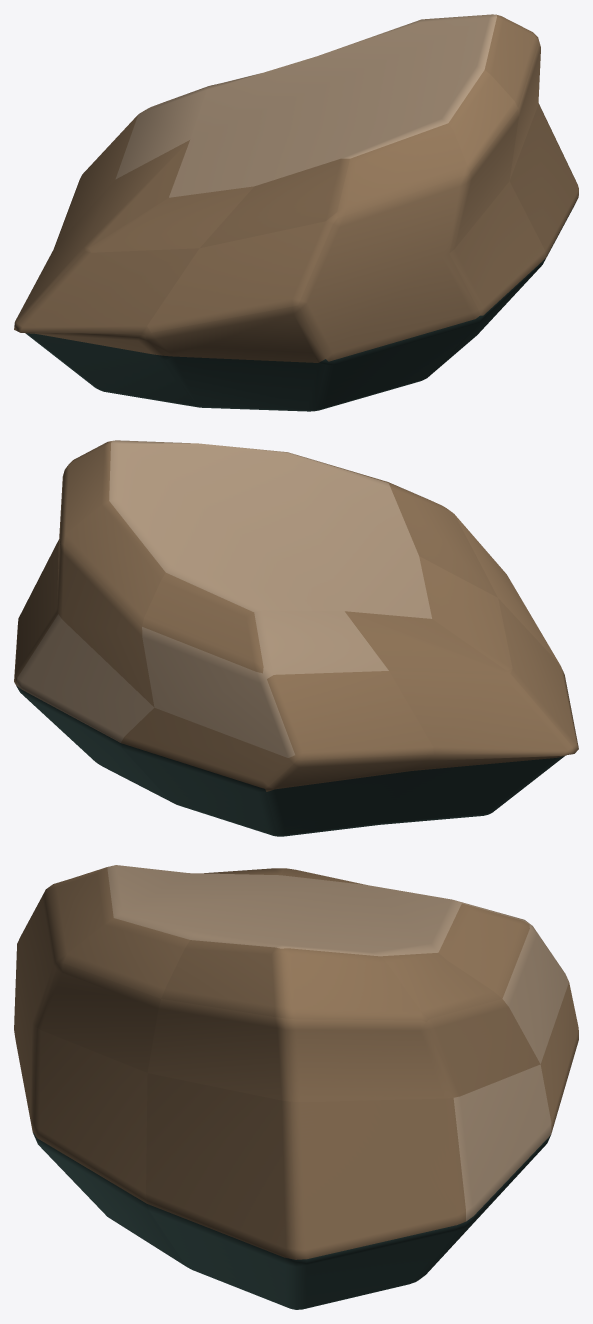
The model's file is rock-sandstone.glb.
3 renders of one model, top to bottom at view 1: azimuth 30°, elevation 25°; view 2: azimuth 150°, elevation 25°; view 3: azimuth 270°, elevation 25°, orthographic. The views are drawn at different scales.
Parts seen in each view (by area): view 1: Rock sandstone; view 2: Rock sandstone; view 3: Rock sandstone.
Boxes of the visible parts, bbox=[...] form: Rock sandstone: bbox=[14, 14, 578, 411]; Rock sandstone: bbox=[14, 440, 578, 836]; Rock sandstone: bbox=[14, 865, 578, 1309].
Size of the model in its own units: 3.17 by 1.53 by 2.17.
